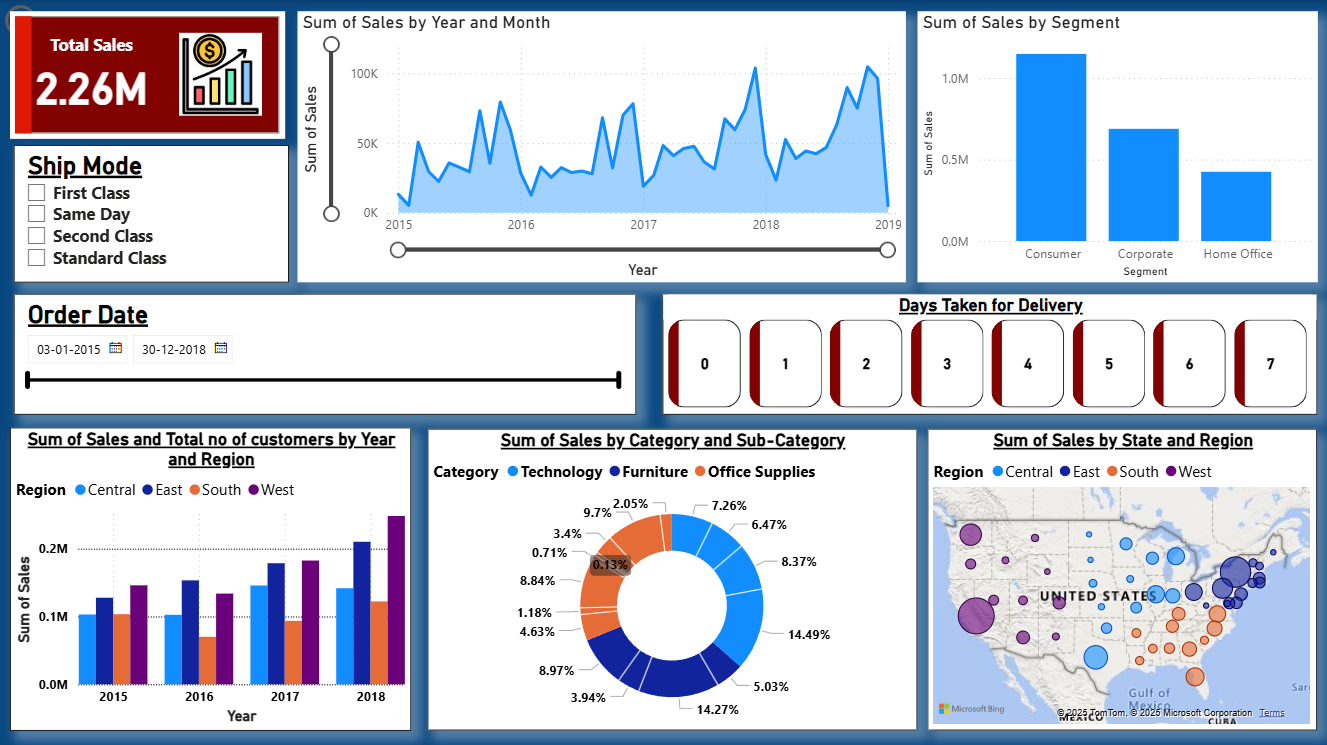

The page's visual inventory and layout, read from the dashboard file:
{"tool":"powerbi","page":{"name":"Page 1","canvas":[1280,720],"ordinal":0},"visuals":[{"type":"map","fields":{"Size":["Sum(Superstore Sales Dataset.Sales)"],"Category":["Superstore Sales Dataset.State"],"Series":["Superstore Sales Dataset.Region"]},"box":[895,413.8,376.2,291.2],"z":0},{"type":"donutChart","fields":{"Y":["Sum(Superstore Sales Dataset.Sales)"],"Category":["Superstore Sales Dataset.Category"],"Series":["Superstore Sales Dataset.Sub-Category"]},"box":[412.5,413.8,472.5,291.2],"z":1000},{"type":"lineClusteredColumnComboChart","fields":{"Y":["Sum(Superstore Sales Dataset.Sales)"],"Category":["Superstore Sales Dataset.Order Date.Variation.Date Hierarchy.Year"],"Series":["Superstore Sales Dataset.Region"]},"box":[10,412.5,387.5,292.5],"z":2000},{"type":"actionButton","box":[0,0,100,40],"z":3000},{"type":"cardVisual","fields":{"Data":["Sum(Superstore Sales Dataset.Sales)"]},"box":[9.7,10.9,265.4,123.1],"z":4000},{"type":"slicer","fields":{"Values":["Superstore Sales Dataset.Ship Mode"]},"box":[13.3,139.9,265.4,132.7],"z":5000},{"type":"slicer","fields":{"Values":["Superstore Sales Dataset.Order Date"]},"box":[13.3,283.5,600.8,117],"z":6000},{"type":"clusteredColumnChart","fields":{"Y":["Sum(Superstore Sales Dataset.Sales)"],"Category":["Superstore Sales Dataset.Segment"]},"box":[885.5,10.9,386.1,261.8],"z":7000},{"type":"advancedSlicerVisual","fields":{"Values":["Superstore Sales Dataset.Days Taken for Delivery"]},"box":[639.4,283.5,632.2,117],"z":8000},{"type":"lineChart","fields":{"Y":["Sum(Superstore Sales Dataset.Sales)"],"Category":["Superstore Sales Dataset.Ship Date.Variation.Date Hierarchy.Year","Superstore Sales Dataset.Ship Date.Variation.Date Hierarchy.Month"]},"box":[287.1,10.9,587.5,261.8],"z":9000}]}

Visuals, with their boxes in screenshot pixels (x1, y1, x2, y2), scaled from the page's 1280x720 canvas onto the 1327x745 screenshot:
map - Sum(Superstore Sales Dataset.Sales) x Superstore Sales Dataset.State: pyautogui.locateOnScreen(928, 428, 1318, 729)
donutChart - Sum(Superstore Sales Dataset.Sales) x Superstore Sales Dataset.Category: pyautogui.locateOnScreen(428, 428, 917, 729)
lineClusteredColumnComboChart - Sum(Superstore Sales Dataset.Sales) x Superstore Sales Dataset.Order Date.Variation.Date Hierarchy.Year: pyautogui.locateOnScreen(10, 427, 412, 729)
actionButton: pyautogui.locateOnScreen(0, 0, 104, 41)
cardVisual - Sum(Superstore Sales Dataset.Sales): pyautogui.locateOnScreen(10, 11, 285, 139)
slicer - Superstore Sales Dataset.Ship Mode: pyautogui.locateOnScreen(14, 145, 289, 282)
slicer - Superstore Sales Dataset.Order Date: pyautogui.locateOnScreen(14, 293, 637, 414)
clusteredColumnChart - Sum(Superstore Sales Dataset.Sales) x Superstore Sales Dataset.Segment: pyautogui.locateOnScreen(918, 11, 1318, 282)
advancedSlicerVisual - Superstore Sales Dataset.Days Taken for Delivery: pyautogui.locateOnScreen(663, 293, 1318, 414)
lineChart - Sum(Superstore Sales Dataset.Sales) x Superstore Sales Dataset.Ship Date.Variation.Date Hierarchy.Year: pyautogui.locateOnScreen(298, 11, 907, 282)
